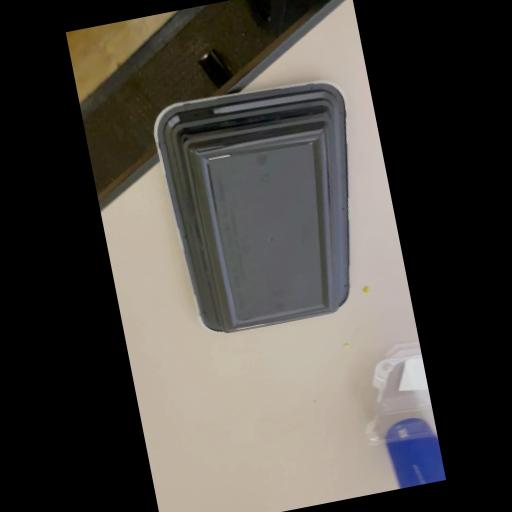rigid_plastic_container: (142, 58, 392, 350)
